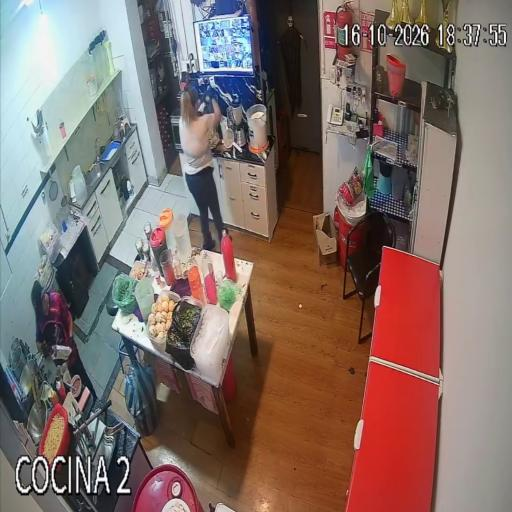Balde: (247, 104, 268, 152)
Cernidor: (223, 128, 241, 151)
Jarra1: (150, 227, 167, 277)
Jarra2: (159, 208, 175, 249)
Jarra3: (135, 278, 154, 320)
Jarra4: (173, 214, 191, 263)
Jarra5: (70, 165, 86, 204)
Licuadora2: (231, 98, 247, 147)
Persona2: (179, 88, 223, 247)
Taper: (130, 261, 147, 281)
Taper2: (146, 291, 180, 348)
Taper3: (166, 298, 202, 369)
Taper4: (190, 304, 230, 381)
Taper5: (31, 281, 90, 385), (40, 224, 61, 263)
